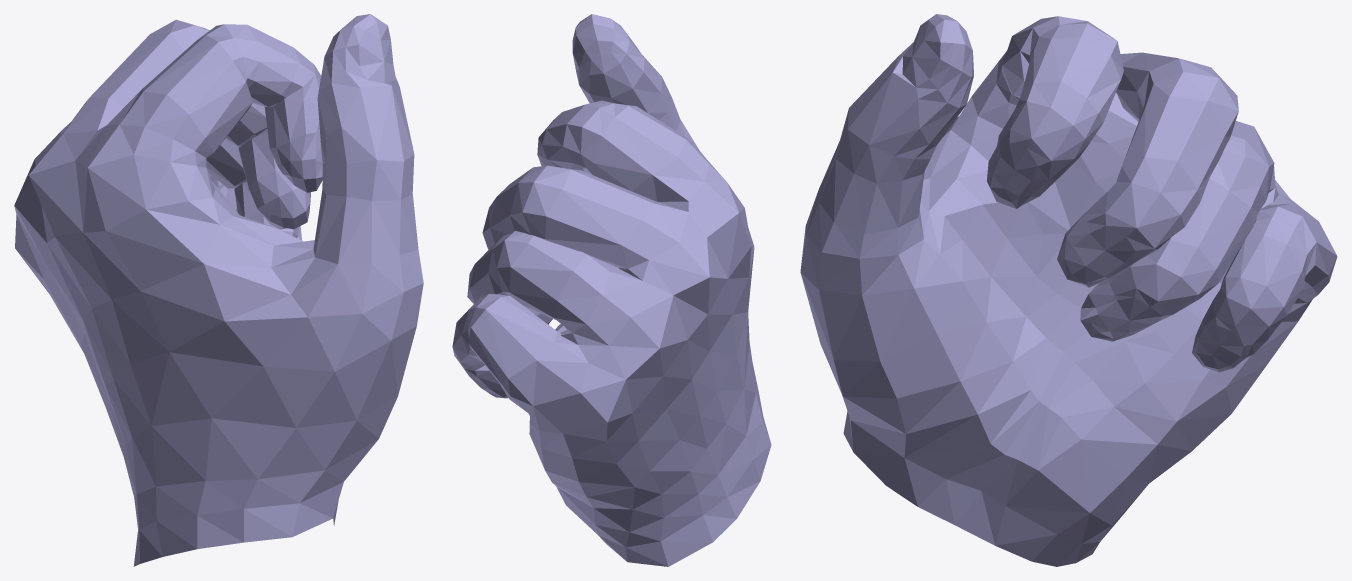
Rendered from frame_0073_source_000073_hand.glb.
The picture shows the model from 3 angles, left to right: view 1: azimuth 30°, elevation 25°; view 2: azimuth 150°, elevation 25°; view 3: azimuth 270°, elevation 25°; orthographic projection. The views are drawn at different scales.
Visible parts, largest first — view 1: world; view 2: world; view 3: world.
Boxes of the visible parts, left/top/right/bottom form: world: left=14, top=14, right=423, bottom=566; world: left=452, top=14, right=771, bottom=566; world: left=800, top=14, right=1337, bottom=566.
Size of the model in its own units: 0.0626 by 0.1241 by 0.1021.
